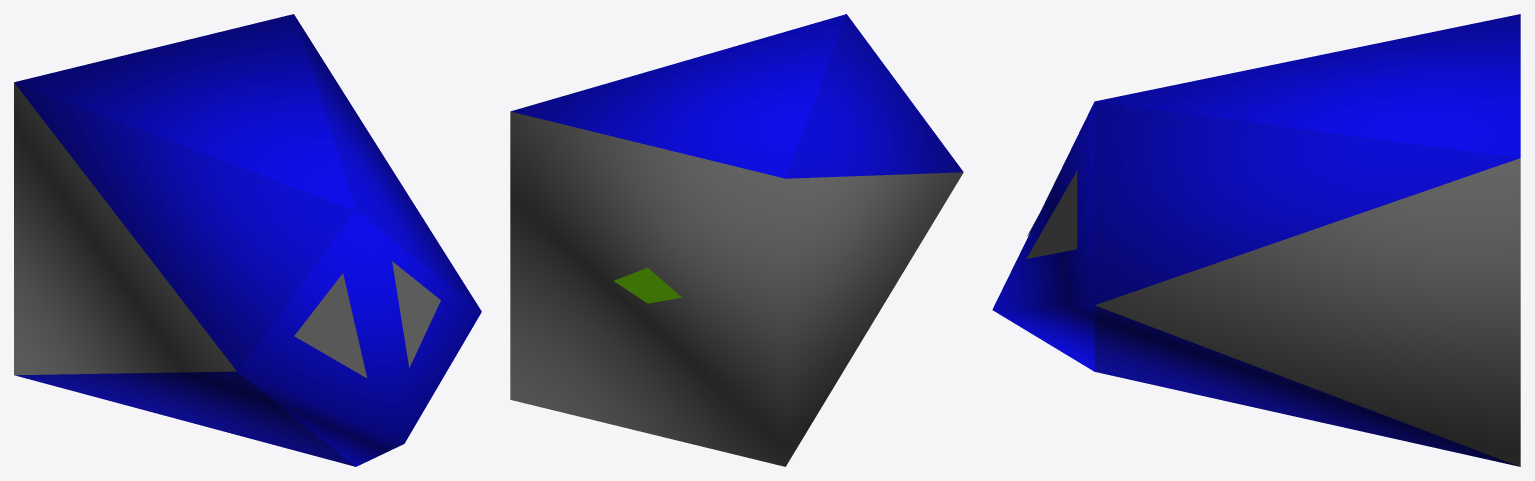
File: Shuttle.fbx
3 views of the same model, side by side, from view 1: azimuth 30°, elevation 25°; view 2: azimuth 150°, elevation 25°; view 3: azimuth 270°, elevation 25° (orthographic). The views are drawn at different scales.
Parts seen in each view (by area): view 1: shuttle; view 2: shuttle; view 3: shuttle.
Boxes of the visible parts, <box> form: shuttle: <box>14,14,481,466</box>; shuttle: <box>510,14,963,466</box>; shuttle: <box>992,14,1520,466</box>.
Bounding box in the file's own units: 2 × 2 × 3.1.
